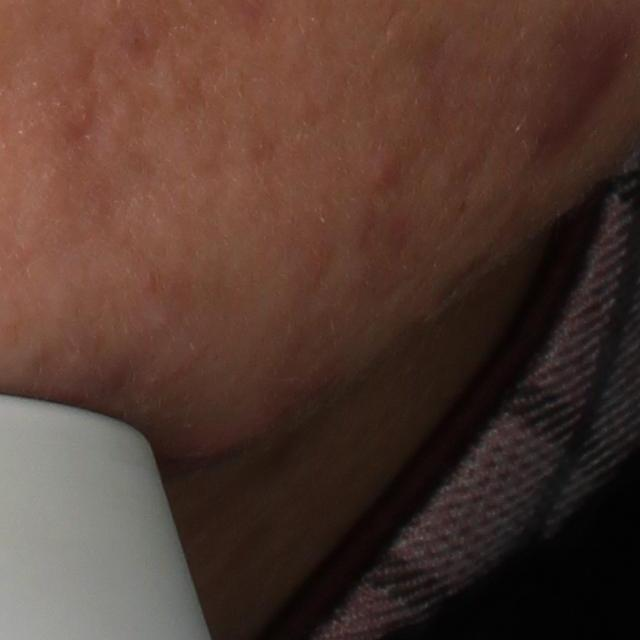nodule: (528, 14, 628, 154)
papule: (361, 156, 397, 191)
